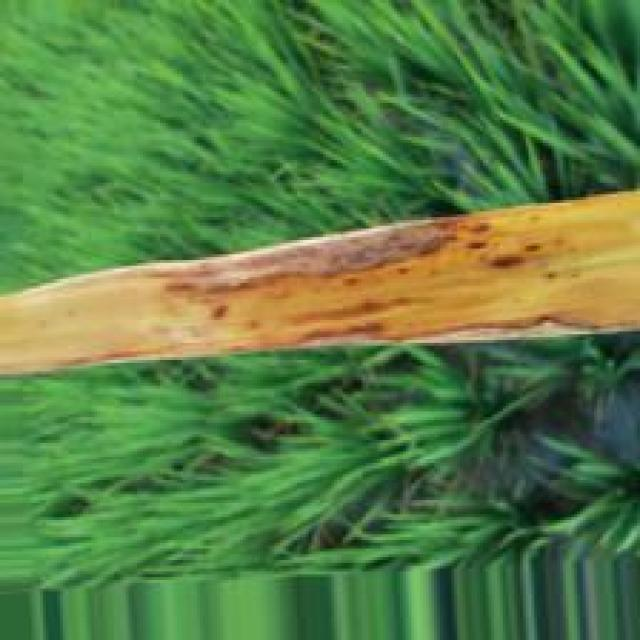Leaf_Scald: (1, 194, 640, 374)
